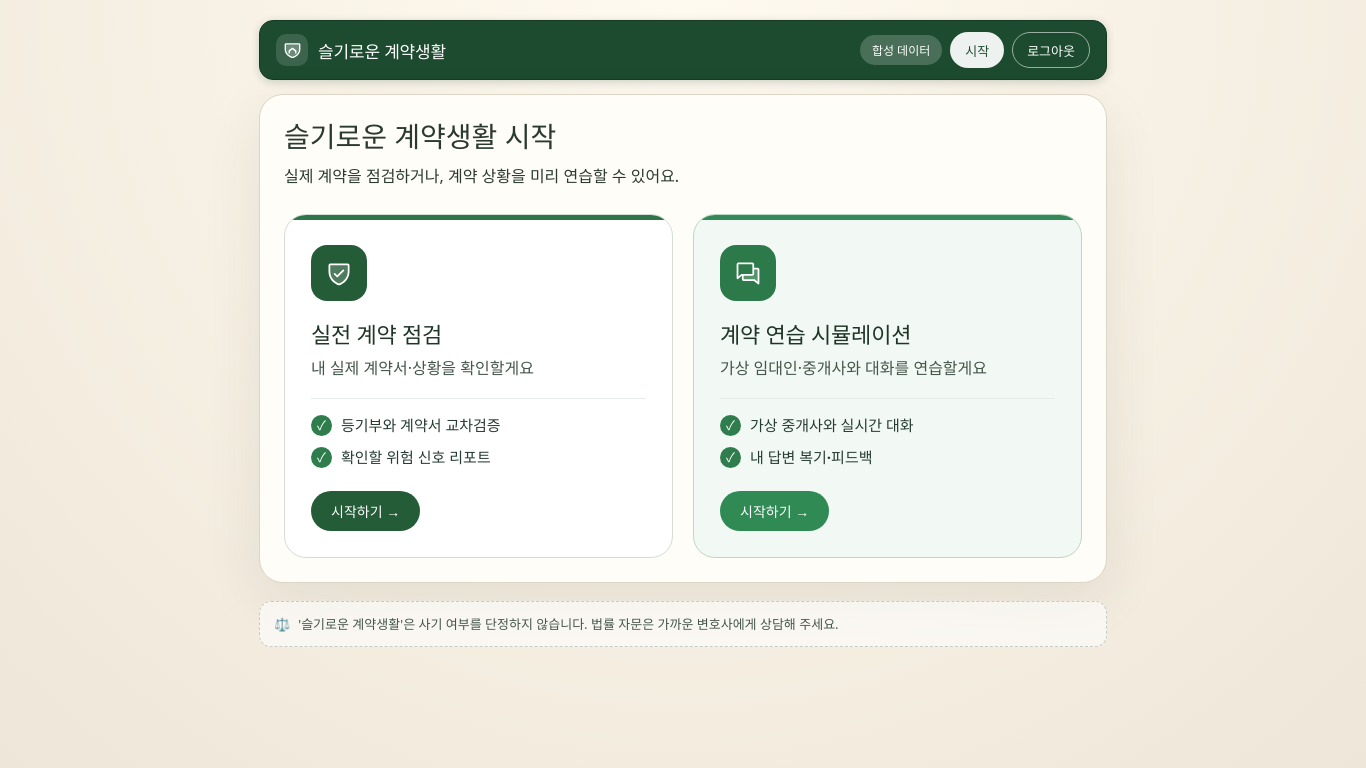
Test case: login mode selection › opens the situation screen from the real-check mode card
Click the link "실전 계약 점검" at [339, 273], box 284,214 -> 673,558
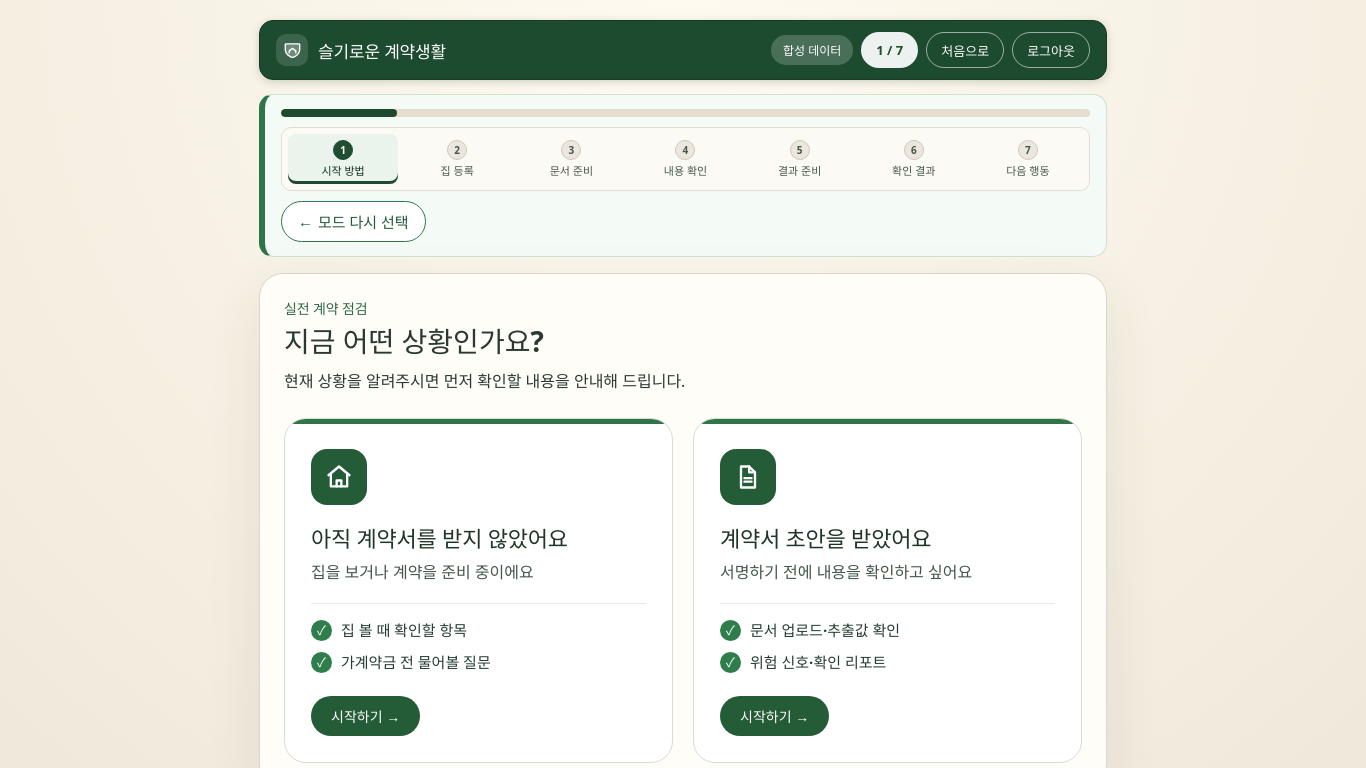
Check: the heading "지금 어떤 상황인가요?" is shown, box 284,322 -> 544,360
